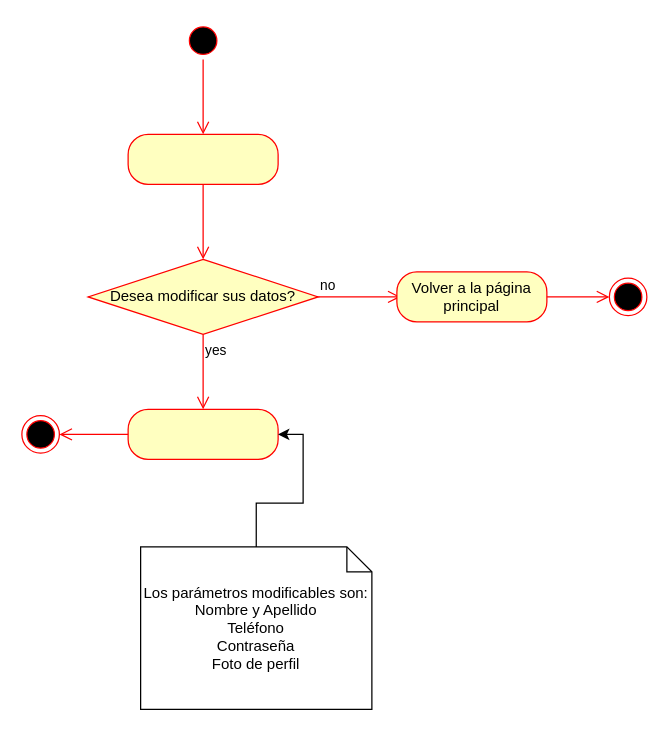
Image size: 669x731. Some labels were removed from this diagram. Each missing label, with the centre of its shape:
"Modificar parametros" goes at [202,433].
"Pulsar botón modificar cuenta" goes at [202,158].
